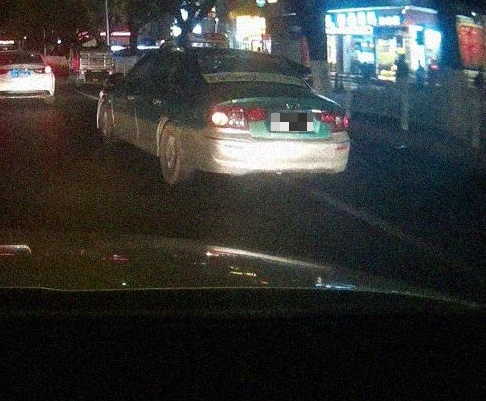L_light: (207, 104, 266, 131), (0, 68, 13, 75), (80, 71, 86, 74)
R_light: (315, 111, 349, 133), (33, 66, 51, 74), (108, 71, 114, 75)
T_light: (250, 78, 276, 83), (13, 54, 22, 56), (93, 54, 100, 56)
night-left: (189, 46, 351, 187)
night-no: (0, 50, 55, 105), (79, 52, 116, 89)
plate_1: (271, 113, 313, 131)
